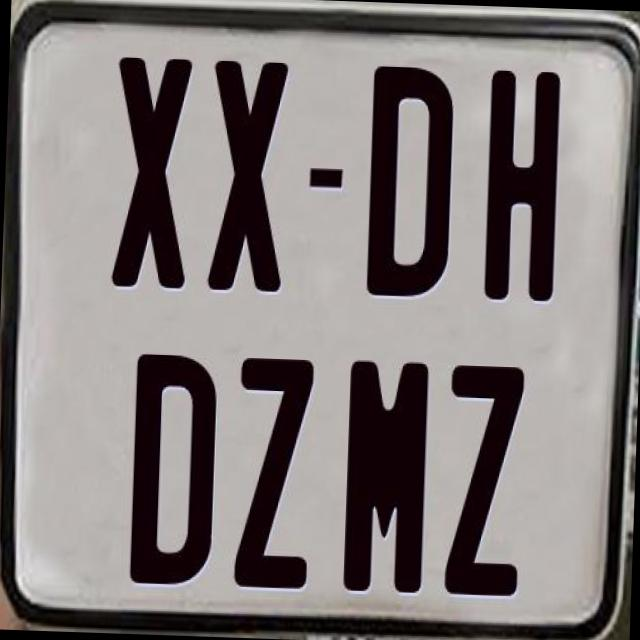D: (126, 352, 218, 590), (365, 65, 457, 298)
H: (480, 65, 562, 301)
M: (342, 357, 436, 598)
X: (109, 56, 197, 294), (206, 56, 293, 296)
Z: (232, 354, 318, 586), (440, 360, 524, 594)
